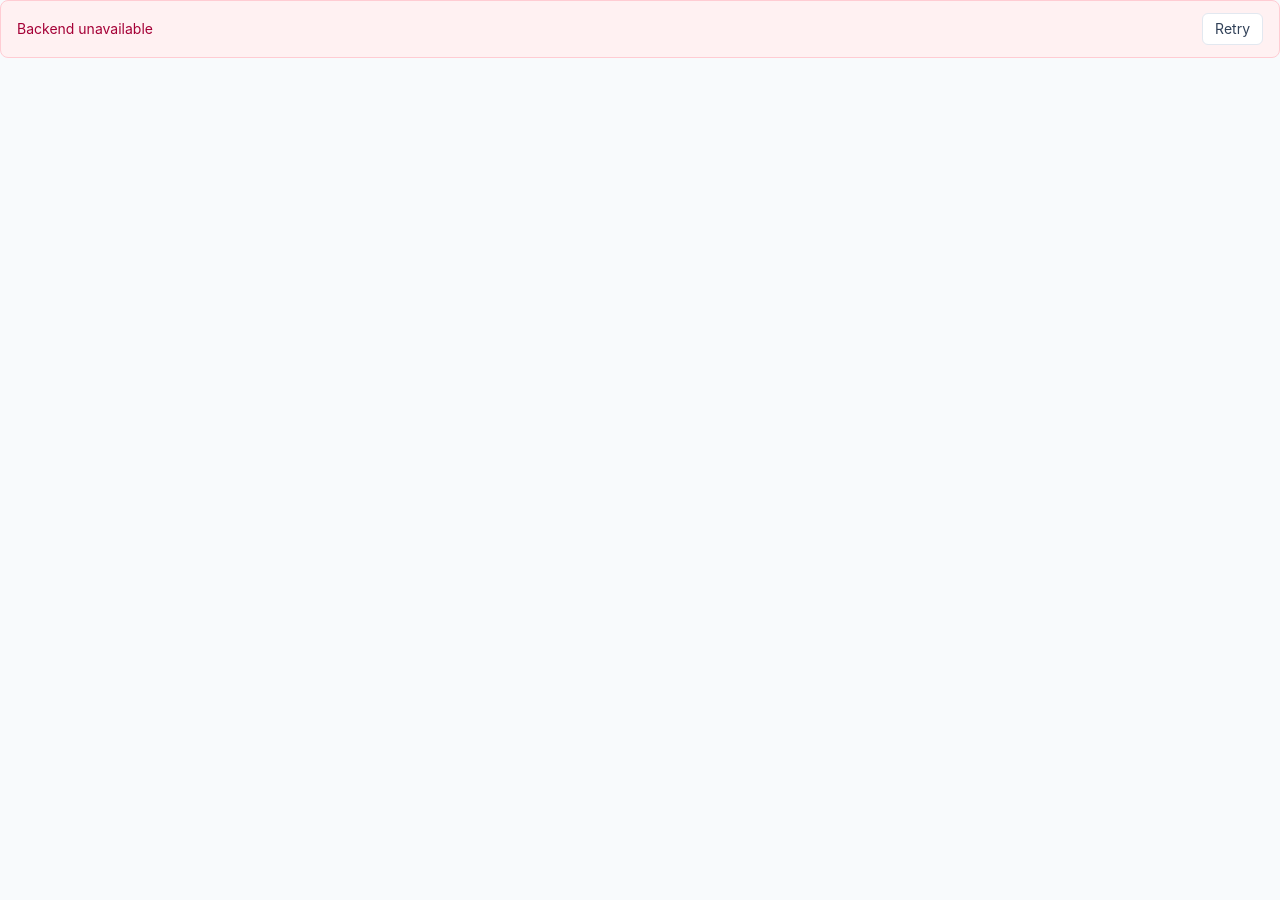
Scenario: dashboard and operational pages › shows dashboard API errors and recovers when the user retries
Expected: the message shows "Backend unavailable", [17, 20, 153, 37]
Click the button "Retry" at (1233, 29), box [1202, 13, 1263, 45]
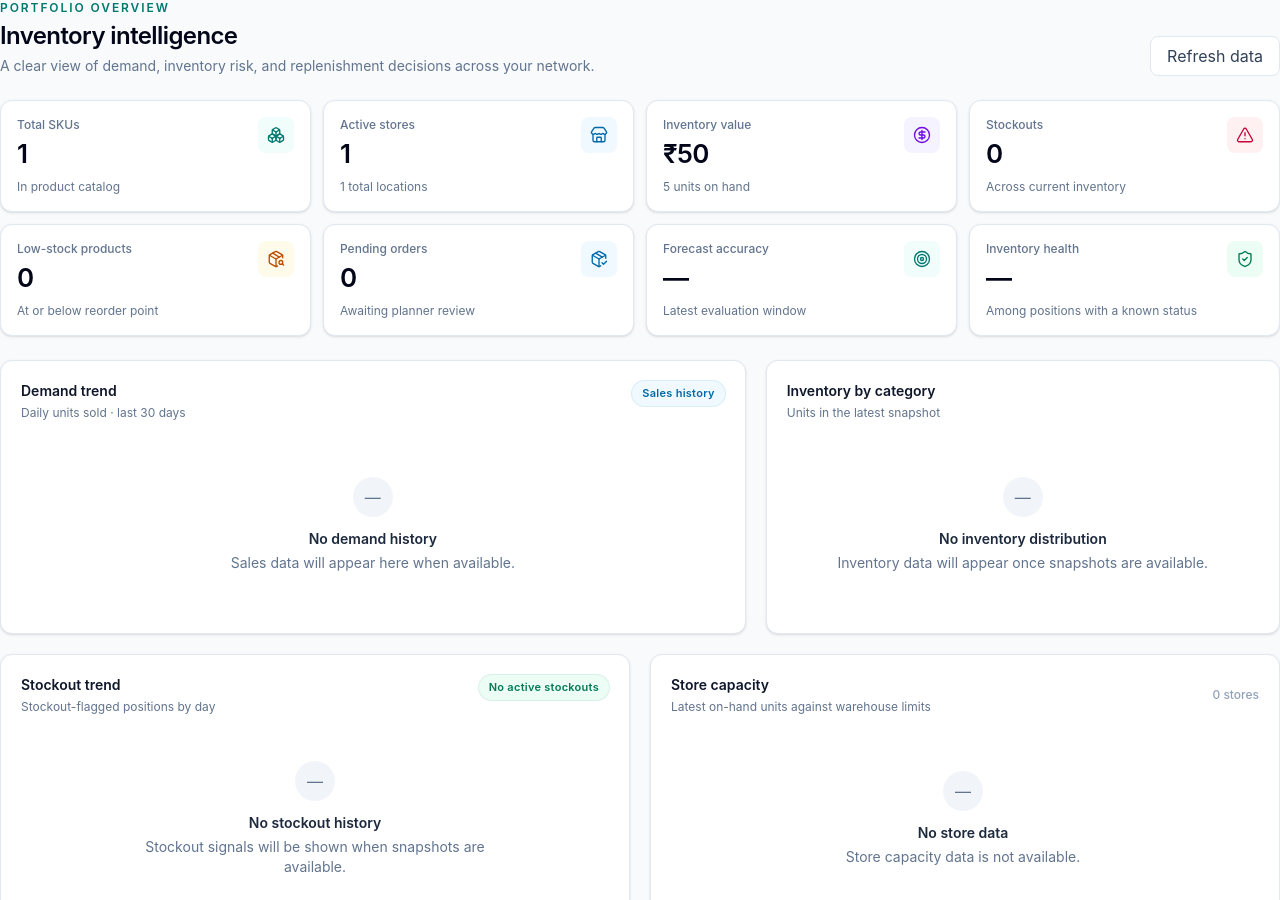
Expected: the heading "Inventory intelligence" is shown, [0, 21, 238, 50]
Expected: the text "No demand history" is shown, [309, 529, 437, 549]
